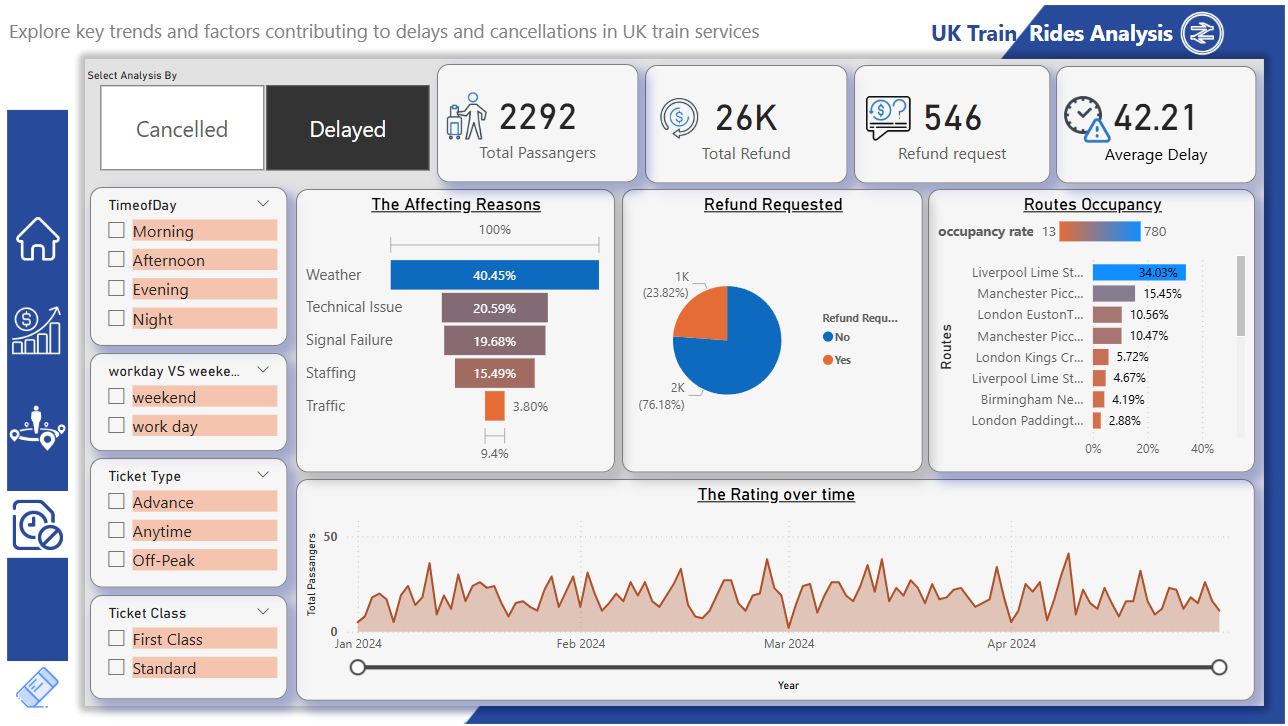

The dashboard page shown, as its layout file describes it:
{"tool":"powerbi","page":{"name":"Delays and Cancellations Analysis","canvas":[1280,720],"ordinal":4},"visuals":[{"type":"image","box":[0,0,1280,720],"z":0},{"type":"textbox","box":[916.5,12.8,308.1,40.5],"z":1000},{"type":"slicer","fields":{"Values":["railway.Journey Status"]},"box":[75.1,63.8,358.6,110.6],"z":2000},{"type":"card","fields":{"Values":["All Measures.Total Refund","select"]},"box":[638.7,64.1,200.3,116.8],"z":3000},{"type":"card","fields":{"Values":["All Measures.Refund request","select"]},"box":[845.1,64.1,194.2,116.8],"z":4000},{"type":"slicer","fields":{"Values":["TimeoffdayTable.TimeofDay"]},"box":[90.5,184.5,195,157.3],"z":5000},{"type":"slicer","fields":{"Values":["railway.workday VS weekend"]},"box":[90.5,348.8,195,96.6],"z":6000},{"type":"slicer","fields":{"Values":["railway.Ticket Type"]},"box":[90.5,452.4,195,128.3],"z":7000},{"type":"slicer","fields":{"Values":["railway.Ticket Class"]},"box":[90.5,587.7,195,102.8],"z":8000},{"type":"lineChart","title":"The Rating over time","fields":{"Y":["All Measures.Total Passangers"],"Category":["railway.Date of Journey.Variation.Date Hierarchy.Year"]},"box":[294.3,472.6,947,218.8],"z":9000},{"type":"clusteredBarChart","title":"Routes Occupancy","fields":{"Category":["railway.Routes"],"Y":["All Measures.Total Passangers"]},"box":[917.1,185.7,324.6,280.7],"z":10000},{"type":"card","fields":{"Values":["All Measures.Average Delay"]},"box":[1044.6,65,197.7,116],"z":11000},{"type":"pieChart","title":"Refund Requested","fields":{"Category":["railway.Refund Request"],"Y":["All Measures.Total Passangers"]},"box":[615.8,186.2,296.9,280.2],"z":12000},{"type":"image","box":[1158.8,0,58.9,64.1],"z":13000},{"type":"funnel","title":"The Affecting Reasons","fields":{"Category":["railway.Reason for Delay"],"Y":["All Measures.Total Passangers"]},"box":[294.3,186.2,314.5,280.2],"z":14000},{"type":"image","box":[633.6,89.3,49.6,52.4],"z":15000},{"type":"image","box":[1044.6,89.6,61.5,56.2],"z":16000},{"type":"image","box":[13.2,652.7,51.8,51.8],"z":17000},{"type":"image","box":[9.6,209.8,58.6,53.3],"z":18000},{"type":"card","fields":{"Values":["All Measures.Total Passangers"]},"box":[433.1,63.3,199.4,116.8],"z":19000},{"type":"image","box":[433.1,81.7,58.9,64.1],"z":20000},{"type":"image","box":[839.2,92.1,52.4,53.9],"z":21000},{"type":"image","box":[6.1,386.4,65.6,74.3],"z":22000},{"type":"image","box":[6.1,297.3,64.7,57.7],"z":23000},{"type":"textbox","box":[6.1,13.1,873.4,57.7],"z":24000},{"type":"image","box":[7.9,485.2,63,66.4],"z":25000}]}

Visuals, with their boxes on the page's 1280x720 design canvas (x1, y1, x2, y2). These are canvas units, not pixel positions in the 1288x726 screenshot, which may show the page scaled, cropped or inside an application window:
image: rect(0, 0, 1280, 720)
textbox: rect(916, 13, 1225, 53)
slicer - railway.Journey Status: rect(75, 64, 434, 174)
card - All Measures.Total Refund x select: rect(639, 64, 839, 181)
card - All Measures.Refund request x select: rect(845, 64, 1039, 181)
slicer - TimeoffdayTable.TimeofDay: rect(90, 184, 286, 342)
slicer - railway.workday VS weekend: rect(90, 349, 286, 445)
slicer - railway.Ticket Type: rect(90, 452, 286, 581)
slicer - railway.Ticket Class: rect(90, 588, 286, 690)
"The Rating over time" lineChart: rect(294, 473, 1241, 691)
"Routes Occupancy" clusteredBarChart: rect(917, 186, 1242, 466)
card - All Measures.Average Delay: rect(1045, 65, 1242, 181)
"Refund Requested" pieChart: rect(616, 186, 913, 466)
image: rect(1159, 0, 1218, 64)
"The Affecting Reasons" funnel: rect(294, 186, 609, 466)
image: rect(634, 89, 683, 142)
image: rect(1045, 90, 1106, 146)
image: rect(13, 653, 65, 704)
image: rect(10, 210, 68, 263)
card - All Measures.Total Passangers: rect(433, 63, 632, 180)
image: rect(433, 82, 492, 146)
image: rect(839, 92, 892, 146)
image: rect(6, 386, 72, 461)
image: rect(6, 297, 71, 355)
textbox: rect(6, 13, 880, 71)
image: rect(8, 485, 71, 552)
